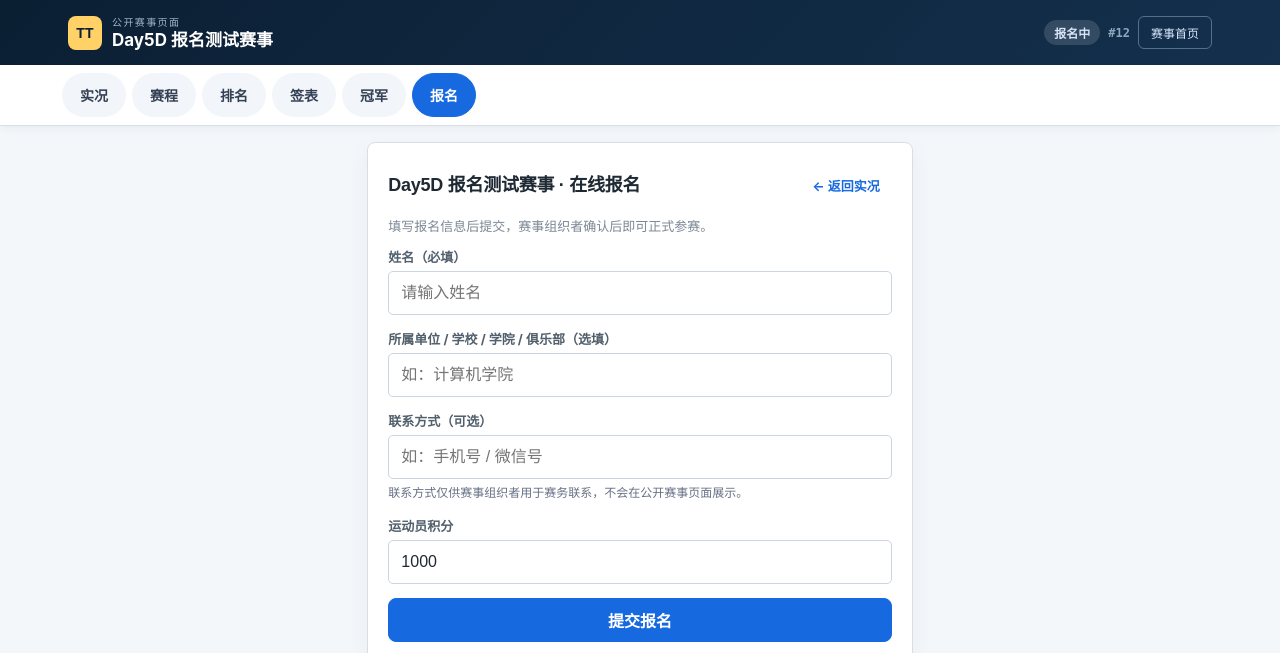
Test: 场景 3：正式提交 › 提交张三：POST /registrations 一次、api.addPlayer 零次，回执为“等待赛事组织者确认”
Step 1. Type "张三" into the field labelled "姓名（必填）" → (640, 293), box [388,271,892,315]
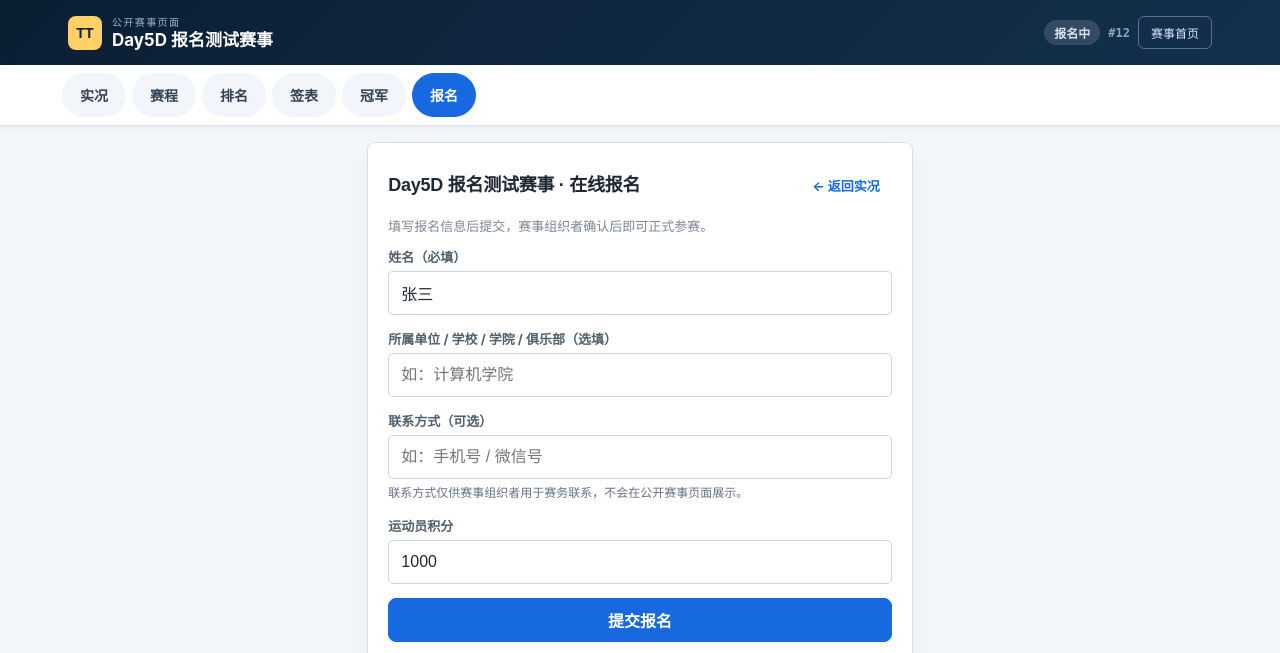
Step 2. Type "XX学院" into the field labelled "所属单位 / 学校 / 学院 / 俱乐部（选填）" → (640, 375), box [388,353,892,397]
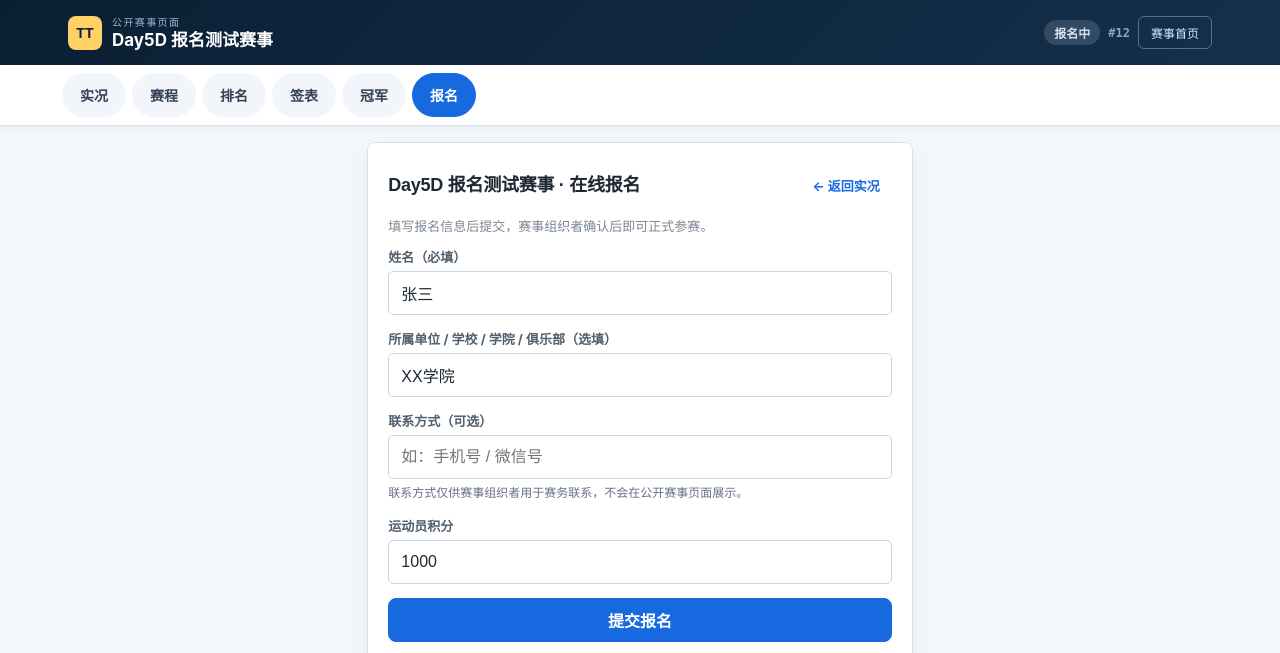
Step 3. Type "13800000000" into the field labelled "联系方式（可选）" → (640, 457), box [388,435,892,479]
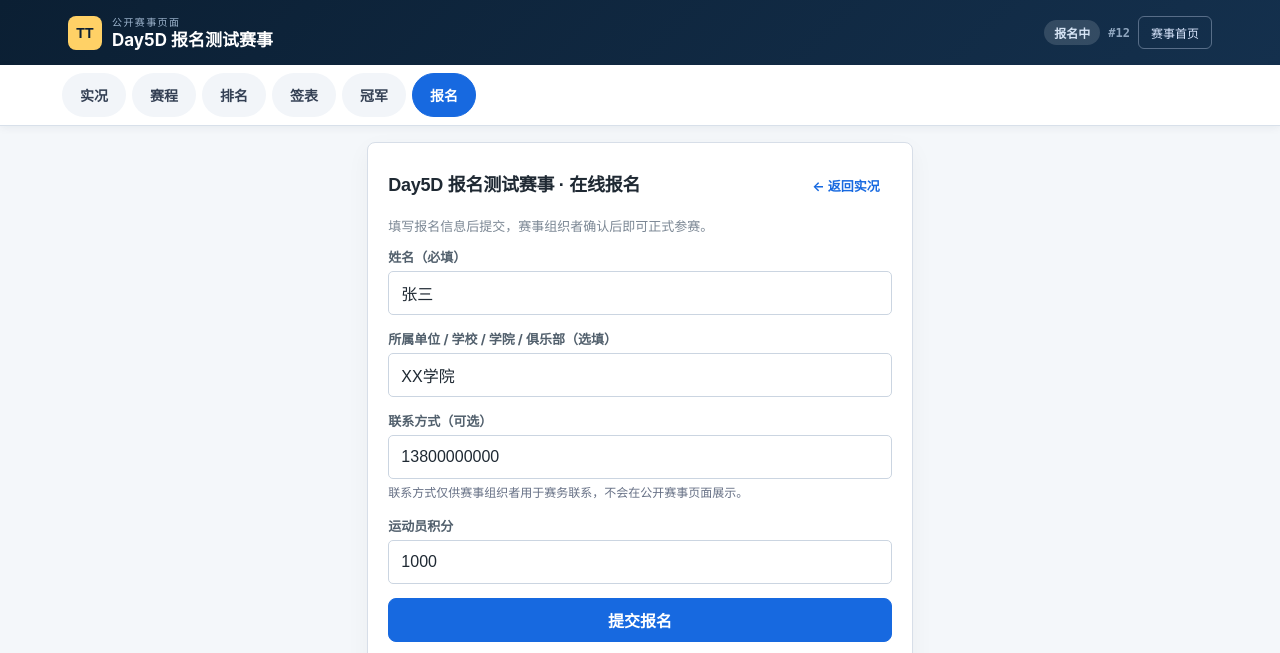
Step 4. Replace the text in the number field labelled "运动员积分" with "1200" → (640, 562), box [388,540,892,584]
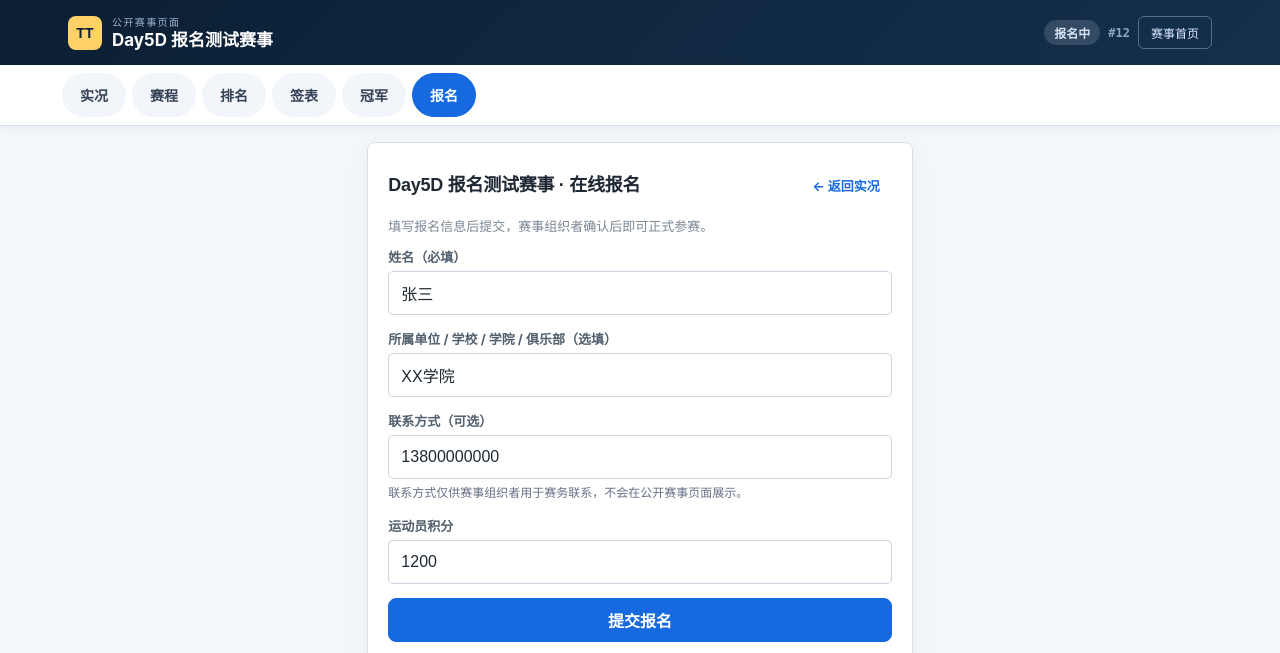
Step 5. Click the button "提交报名" → (640, 620), box [388,598,892,642]
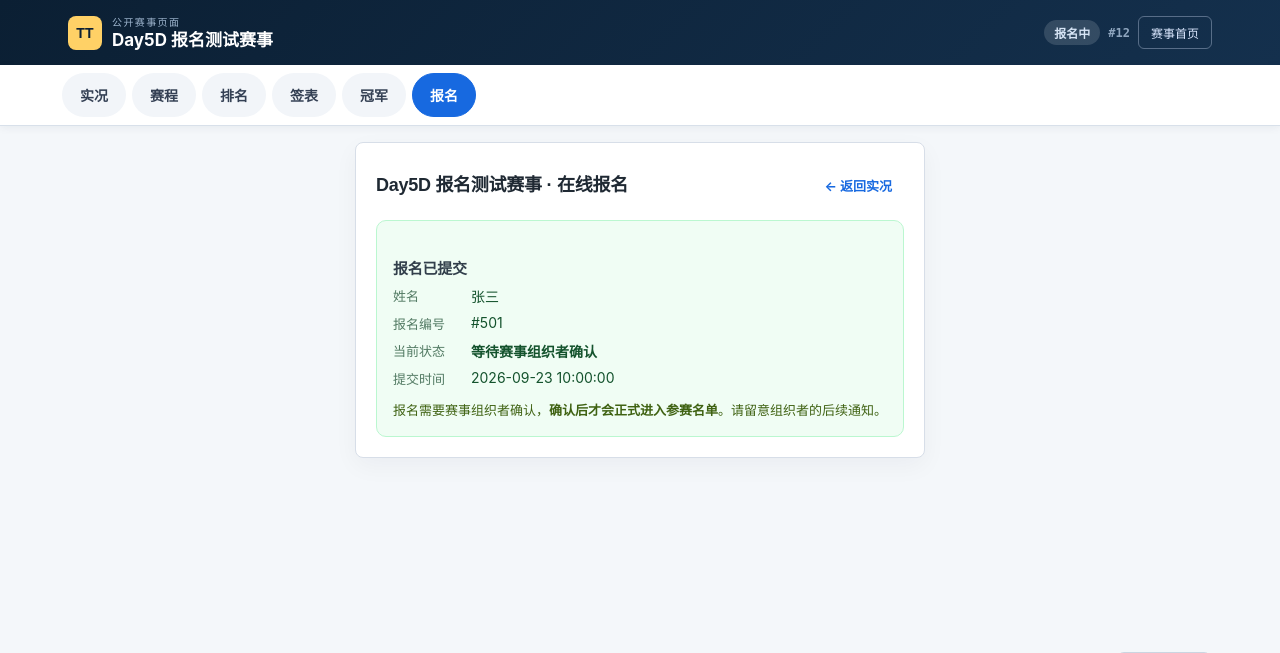
expect the heading "报名已提交" is shown: met, box [393,260,467,277]
expect the text "等待赛事组织者确认" is shown: met, box [471,343,597,360]
expect the text "#501" is shown: met, box [471,314,503,331]
